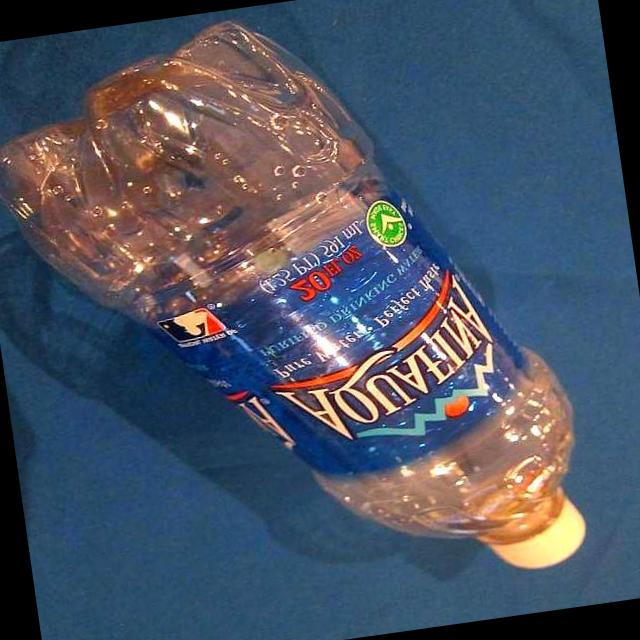Non-biodegradable: (1, 1, 601, 637)
